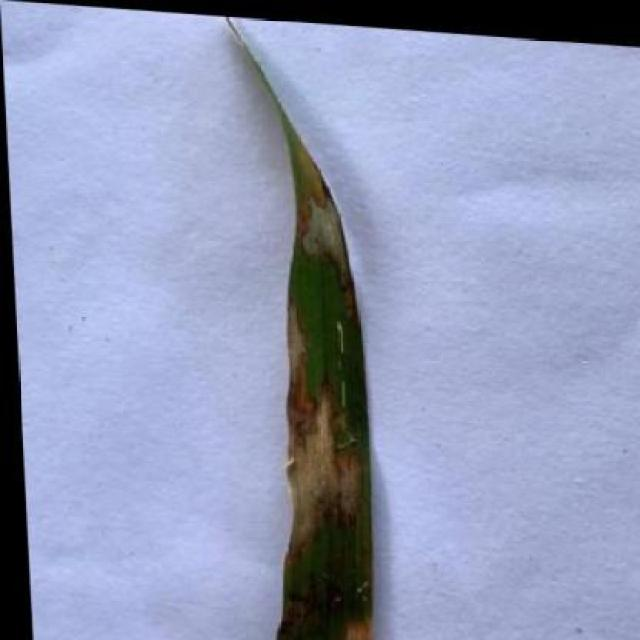Brown_Spot: (221, 12, 384, 640)
